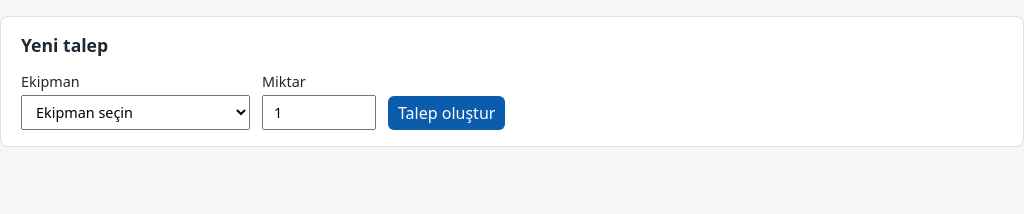
Test: submits the selected product and quantity
Select "KBL-02 - Bağlantı kablosu" in the dropdown labelled "Ekipman": (136,112) [21,95,250,130]
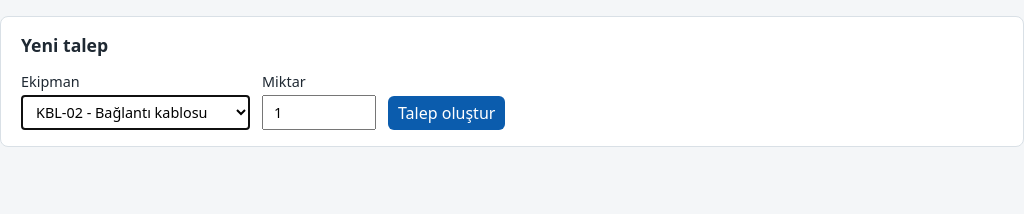
Replace the text in the number field labelled "Miktar" with "3": (319,112) [262,95,376,130]
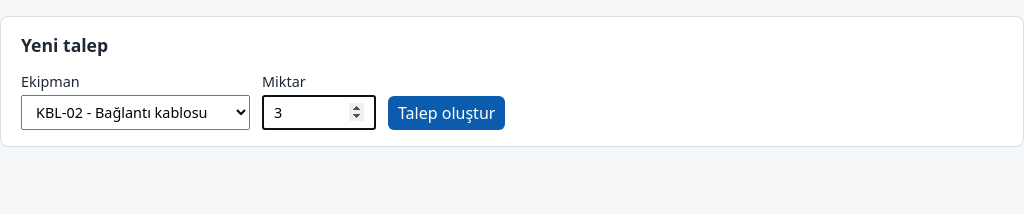
Click the button "Talep oluştur": (447,113) [388,96,505,130]
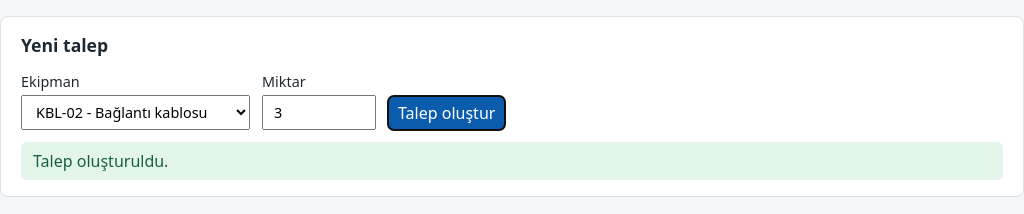
Now the message reads "Talep oluşturuldu.", box [33,150,168,172]
